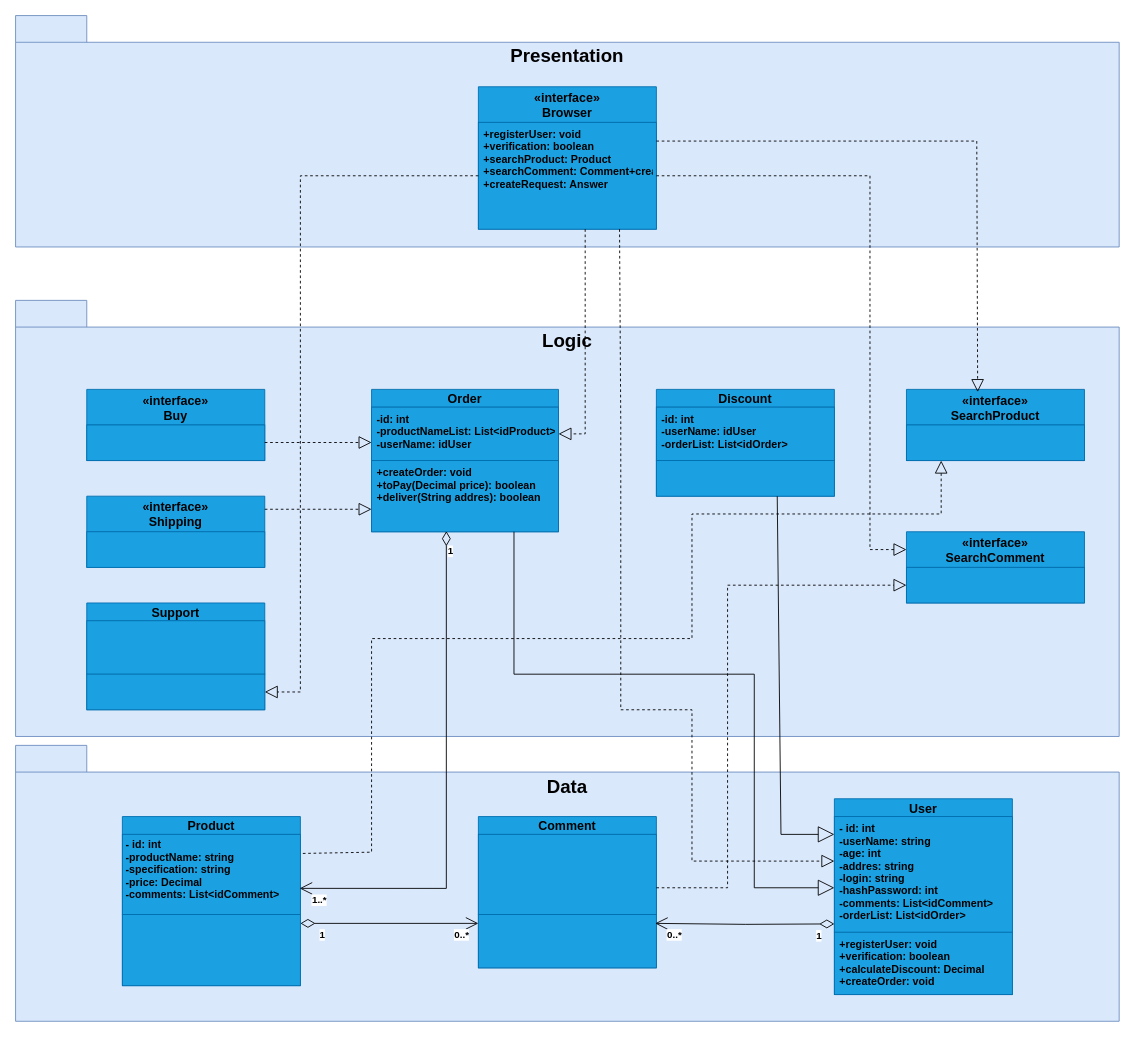
This 1135x1037 diagram has some shape labels left out. Each missing label, with the centre of its shape:
+calculateDiscount: Decimal: point (744, 478)
+createRequest: Answer: point (175, 691)
+deliver(String addres): boolean: point (175, 549)
+searchComment: Comment: point (995, 584)
+searchProduct: Product: point (995, 442)
+setComment: void +getComment: Comment +searchComment: Comment: point (566, 941)
+setProduct: void +getProduct: Product +searchProduct: Product: point (210, 950)
+toPay(Decimal price): boolean: point (175, 442)
- id: int -text: string -idUser: int -idProduct:int: point (566, 873)
-id: int -userName: idUser -text: string: point (175, 647)
